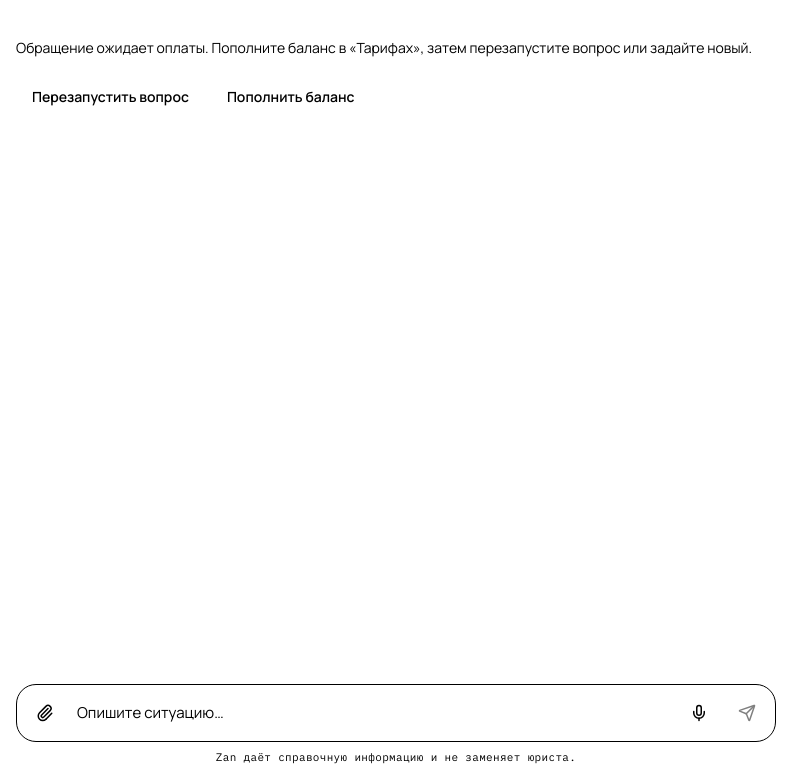
Test: ChatPage › перезапуск вопроса после пополнения баланса — ответ приходит по WS
Click the button "Перезапустить вопрос" at (110, 96), box [16,74,205,118]
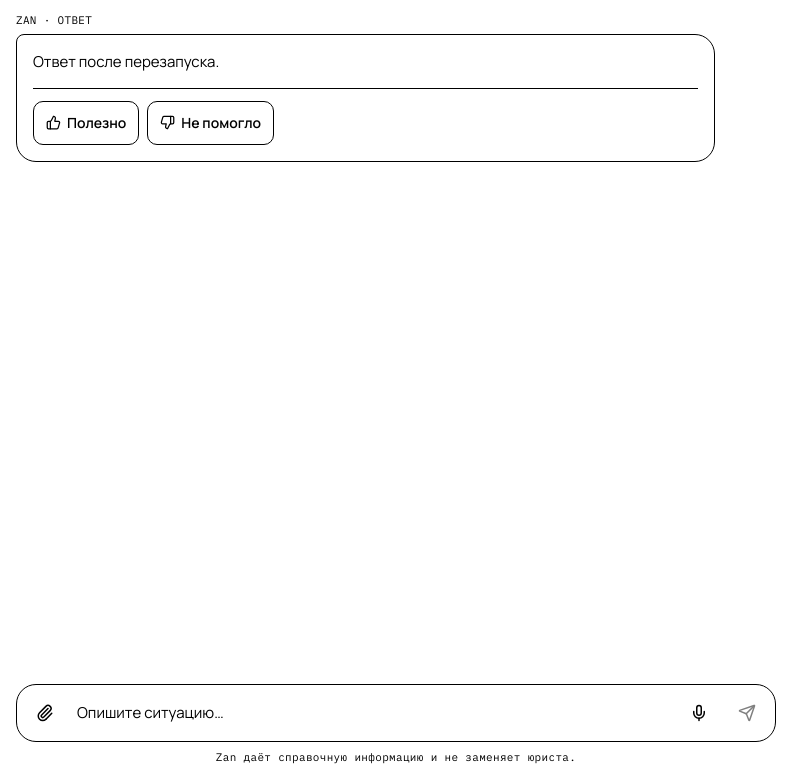
expect the text "Ответ после перезапуска." is shown: met, box [33,51,219,72]
expect the text "Обращение ожидает оплаты" is gone: met
